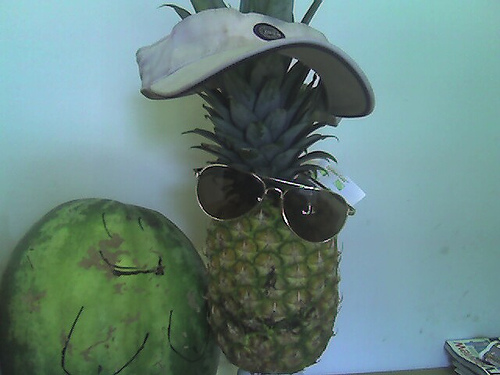pineapple: (158, 1, 341, 374)
